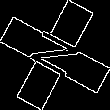N_SE: (23, 26, 87, 84)
